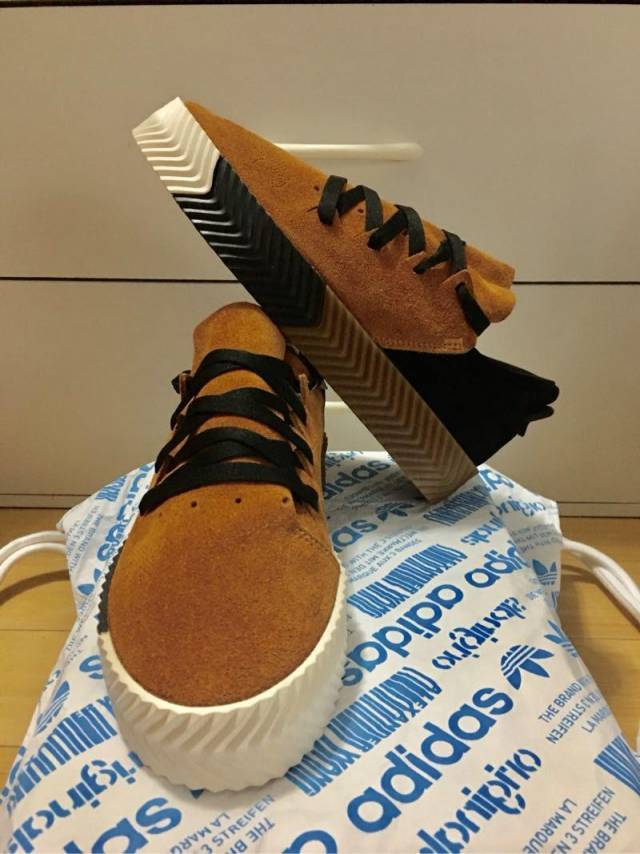adidas AW Skate Sand: (126, 95, 567, 510), (98, 295, 370, 800)
